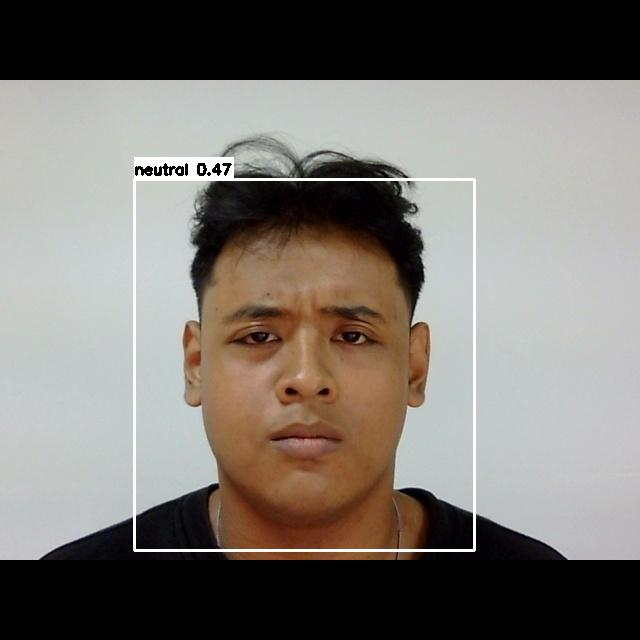Angry: (199, 269, 409, 489)
